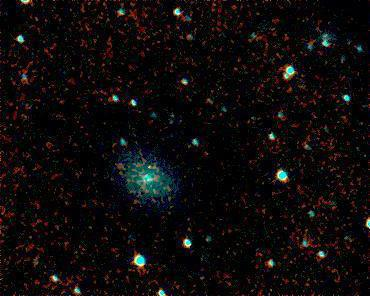star: (136, 153, 166, 183)
